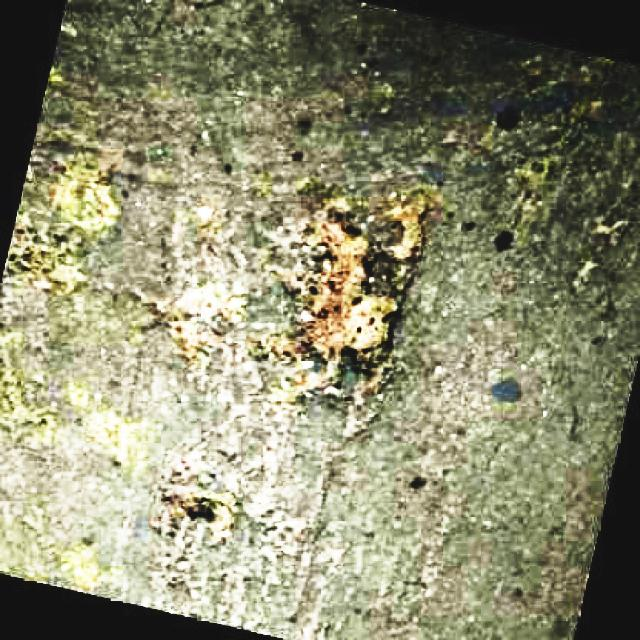pothole: (277, 198, 441, 396)
